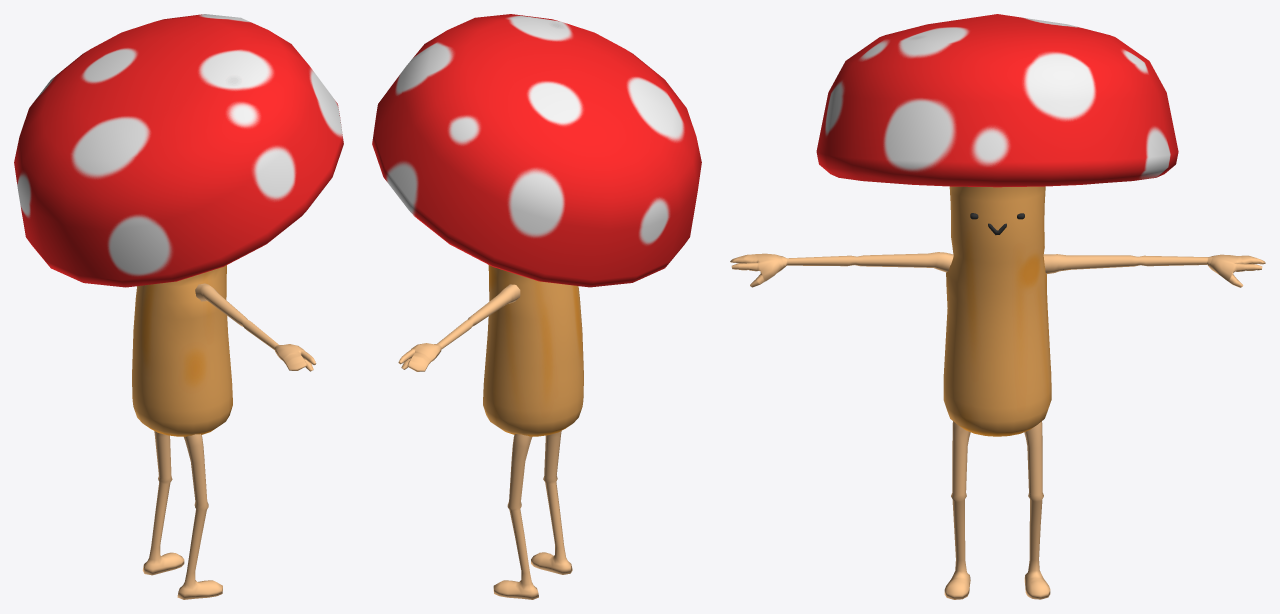
The model's file is scene_QN39RWHAcg.glb.
3 views of the same model, side by side, from view 1: azimuth 30°, elevation 25°; view 2: azimuth 150°, elevation 25°; view 3: azimuth 270°, elevation 25° (orthographic). The views are drawn at different scales.
Visible parts, largest first — view 1: mesh_char_27; view 2: mesh_char_27; view 3: mesh_char_27.
Part boxes in pixels (left/top/right/bottom): mesh_char_27: left=14, top=14, right=343, bottom=599; mesh_char_27: left=372, top=14, right=701, bottom=599; mesh_char_27: left=730, top=14, right=1265, bottom=599.
Size of the model in its own units: 3.15 by 5.68 by 4.82.
1 material, 1 textured.
